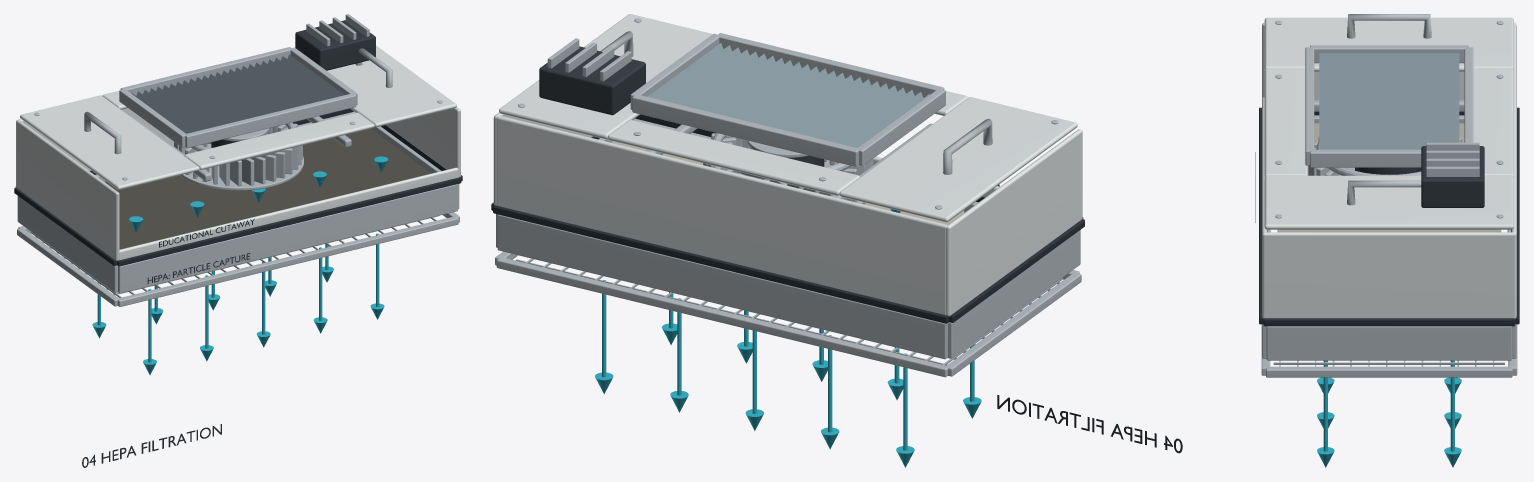
The model's file is ffu_04_hepa_filtration.glb.
The picture shows the model from 3 angles, left to right: view 1: azimuth 30°, elevation 25°; view 2: azimuth 150°, elevation 25°; view 3: azimuth 270°, elevation 25°; orthographic projection. The views are drawn at different scales.
Parts seen in each view (by area): view 1: HEPA aluminum frame.014, Top left.003, Housing side.006, Top right.003, Cutaway front lower lip.001, Top edge panel.006, Protective grille frame.014, Housing side.007, HEPA aluminum frame.012, Optional prefilter frame.014, Sealed edge.014, EC controller.003 (+10 smaller); view 2: Housing back.003, HEPA aluminum frame.015, Top left.003, Housing side.006, Top right.003, Top edge panel.007, Protective grille frame.015, HEPA aluminum frame.012, Optional prefilter frame.015, EC controller.003, Sealed edge.015, Optional prefilter frame.014 (+7 smaller); view 3: Housing side.007, Top right.003, Top left.003, HEPA aluminum frame.013, Top edge panel.006, Top edge panel.007, Protective grille frame.013, EC controller.003, Sealed edge.013, Optional prefilter frame.013, Optional prefilter frame.012, Optional prefilter frame.014 (+43 smaller).
Part boxes in pixels (x1,y1,x2,y2): HEPA aluminum frame.014: (118,184,457,293); Top left.003: (20,95,199,189); Housing side.006: (16,119,119,260); Top right.003: (327,45,456,127); Cutaway front lower lip.001: (119,167,458,260); Top edge panel.006: (184,112,374,169); Protective grille frame.014: (117,216,458,306); Housing side.007: (386,107,460,177); HEPA aluminum frame.012: (17,196,117,292); Optional prefilter frame.014: (185,93,356,147); Sealed edge.014: (117,177,461,266); EC controller.003: (295,20,375,70); Housing back.003: (496,115,947,315); HEPA aluminum frame.015: (497,214,947,359); Top left.003: (839,97,1077,222); Housing side.006: (946,129,1082,316); Top right.003: (499,14,712,139); Top edge panel.007: (608,120,859,195); Protective grille frame.015: (496,257,947,377); HEPA aluminum frame.012: (948,230,1080,358); Optional prefilter frame.015: (632,94,858,166); EC controller.003: (539,46,645,115); Sealed edge.015: (493,205,948,323); Optional prefilter frame.014: (717,33,944,97); Housing side.007: (1262,232,1516,318); Top right.003: (1264,175,1513,229); Top left.003: (1264,17,1513,71); HEPA aluminum frame.013: (1266,326,1511,360); Top edge panel.006: (1264,68,1307,176); Top edge panel.007: (1473,68,1513,176); Protective grille frame.013: (1266,366,1512,377); EC controller.003: (1421,146,1484,207); Sealed edge.013: (1263,318,1515,326); Optional prefilter frame.013: (1310,149,1421,167); Optional prefilter frame.012: (1310,45,1468,63); Optional prefilter frame.014: (1305,47,1314,165).
Size of the model in its own units: 4.59 by 3.12 by 2.43.
